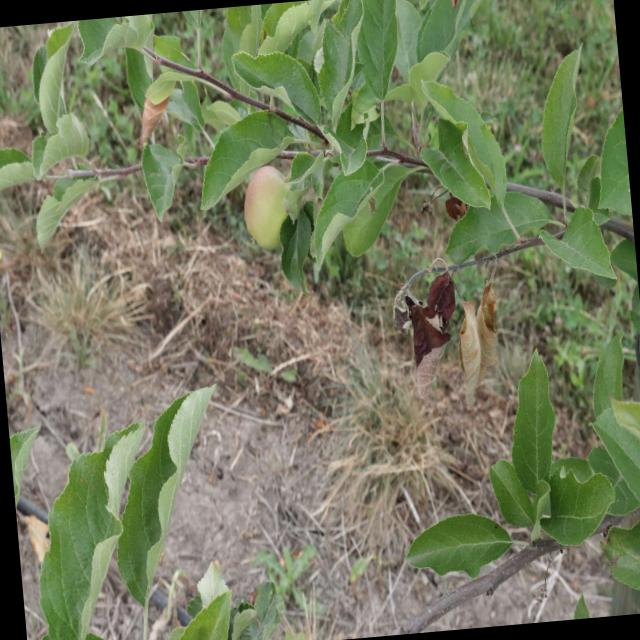-FireBlight-: (388, 262, 499, 392)
